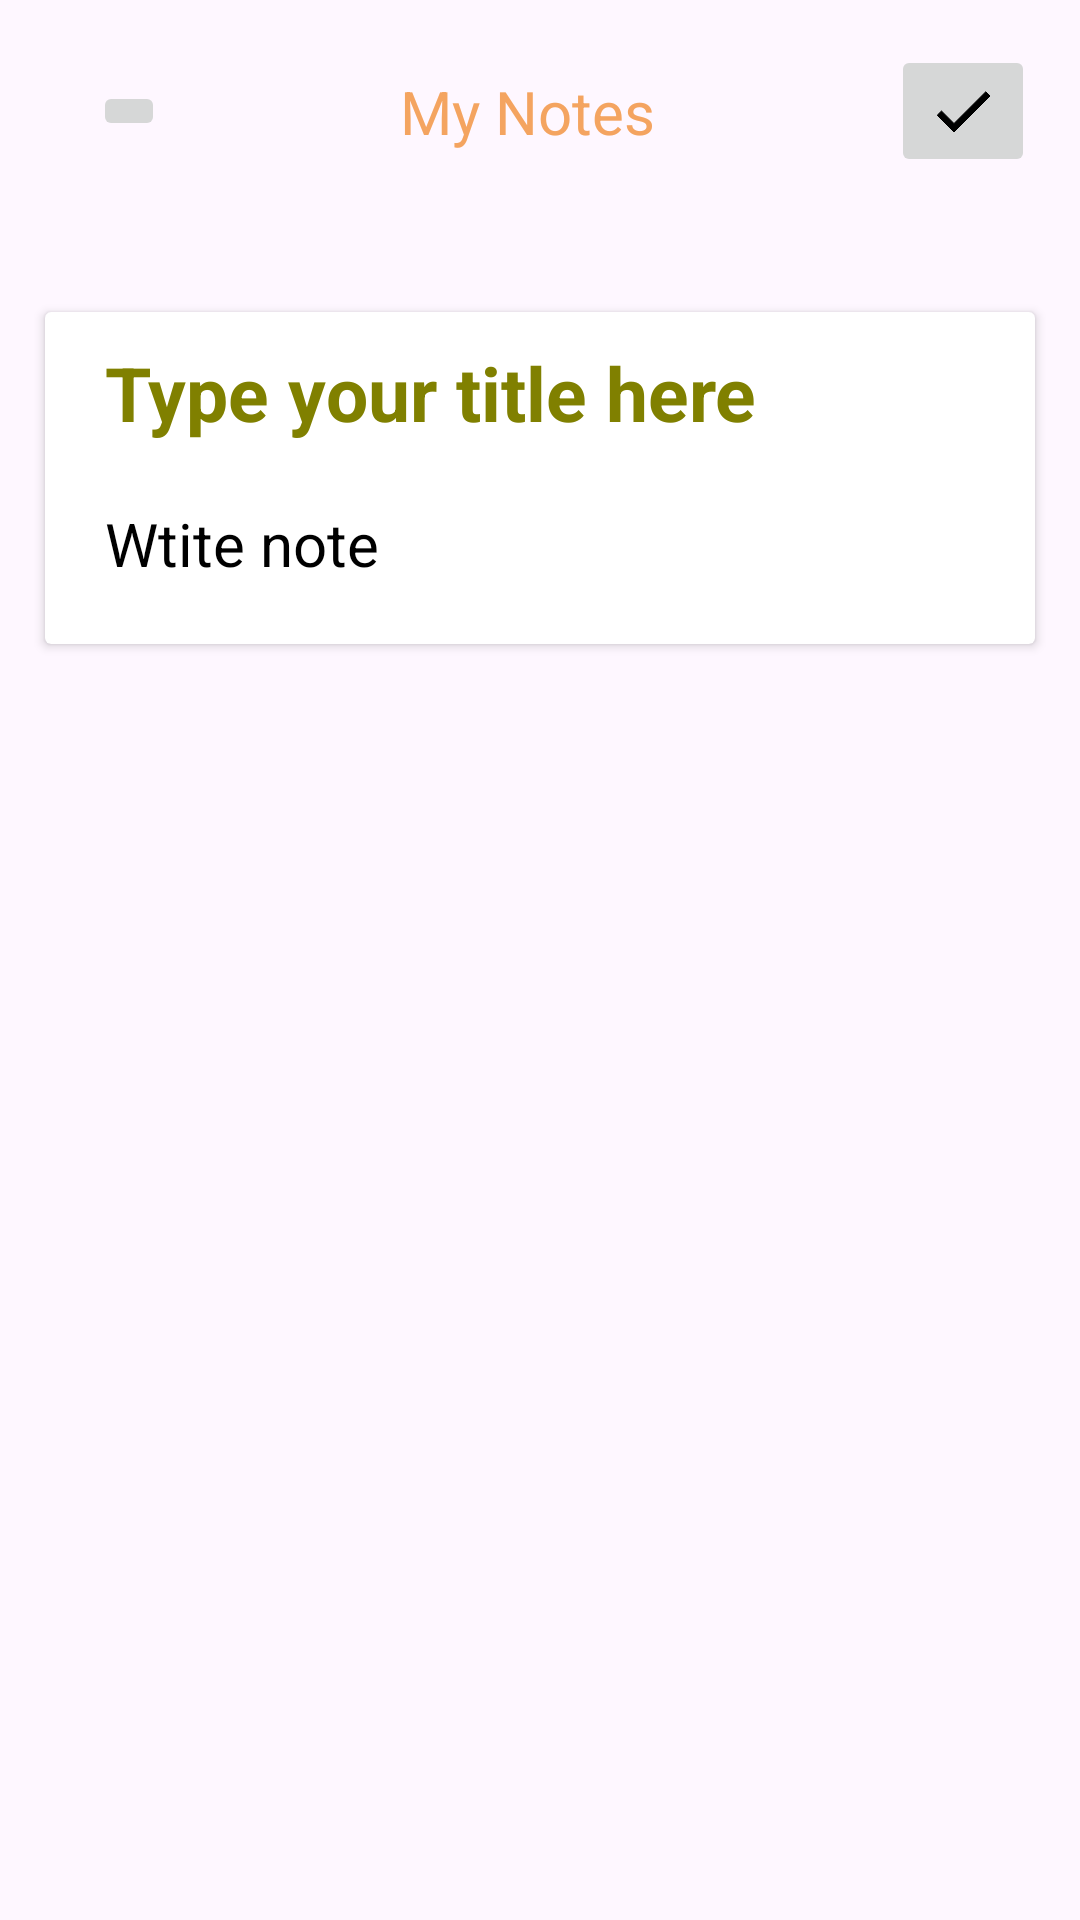

Named icons in this screenshot (1080w x 1920h) and their centers, [x,y]:
right: [963,111]
